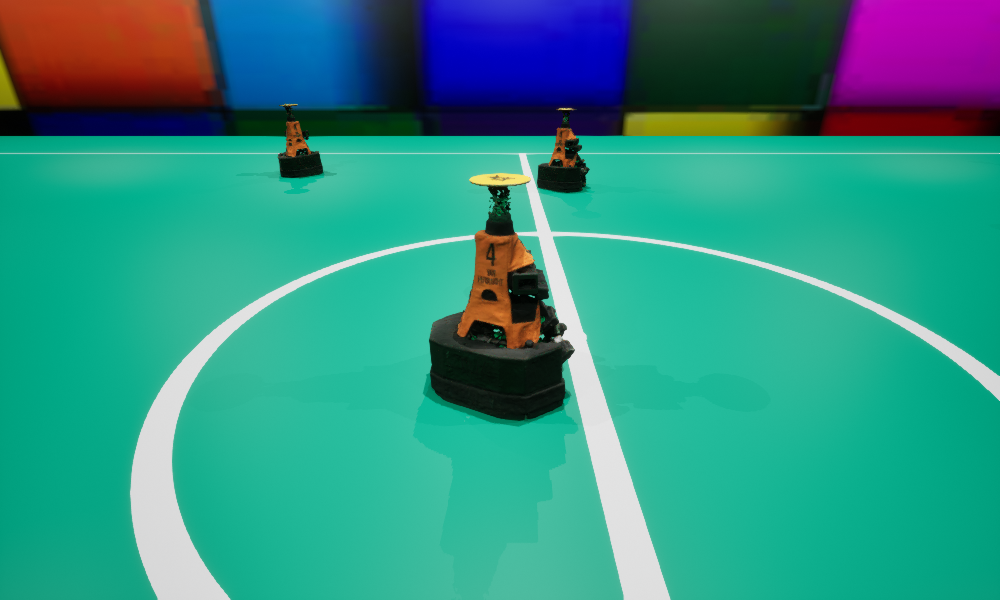0 orange robot TechUnited: (429, 173, 574, 420), (537, 108, 589, 192), (278, 104, 322, 177)
